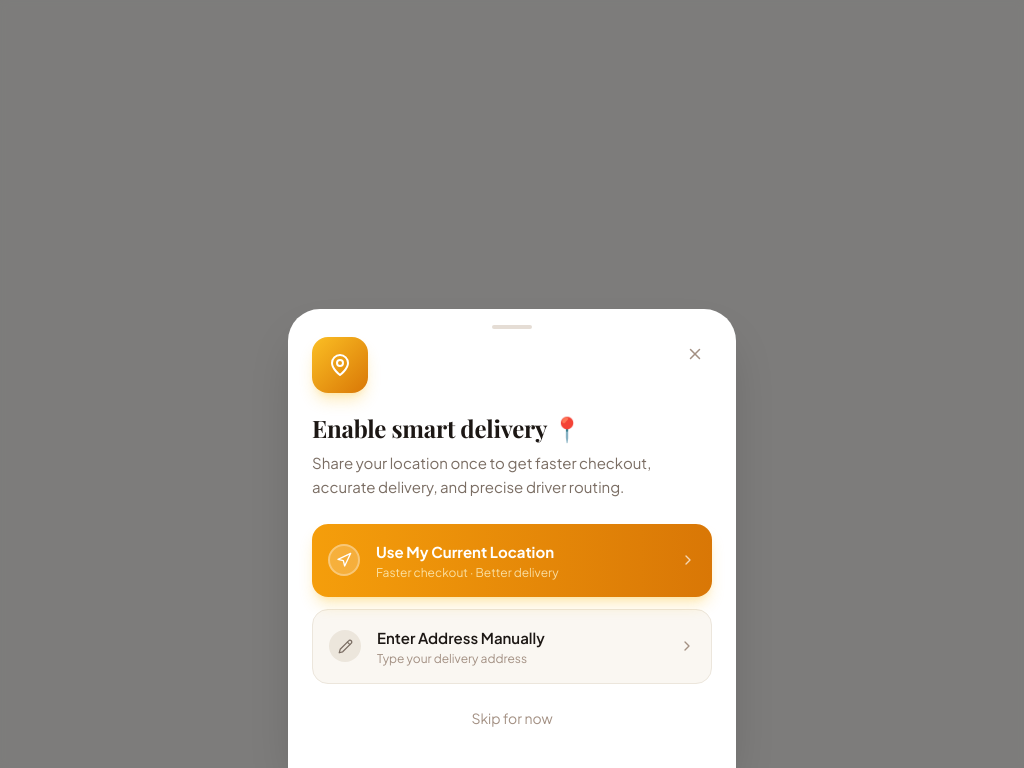
Scenario: [LocationPopup] › should show error if manual form has insufficient fields
Click the text "Enter Address Manually".
click(461, 637)  # box 377,626 -> 545,649
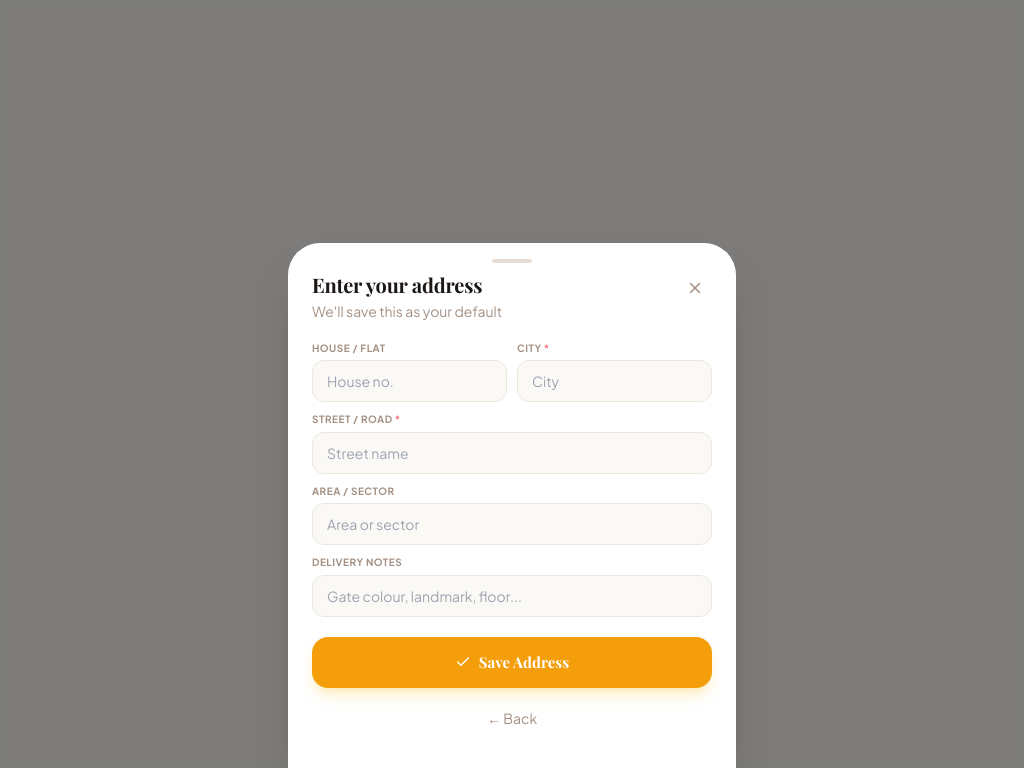
Click the button "Save Address".
click(512, 662)  # box 312,637 -> 712,688
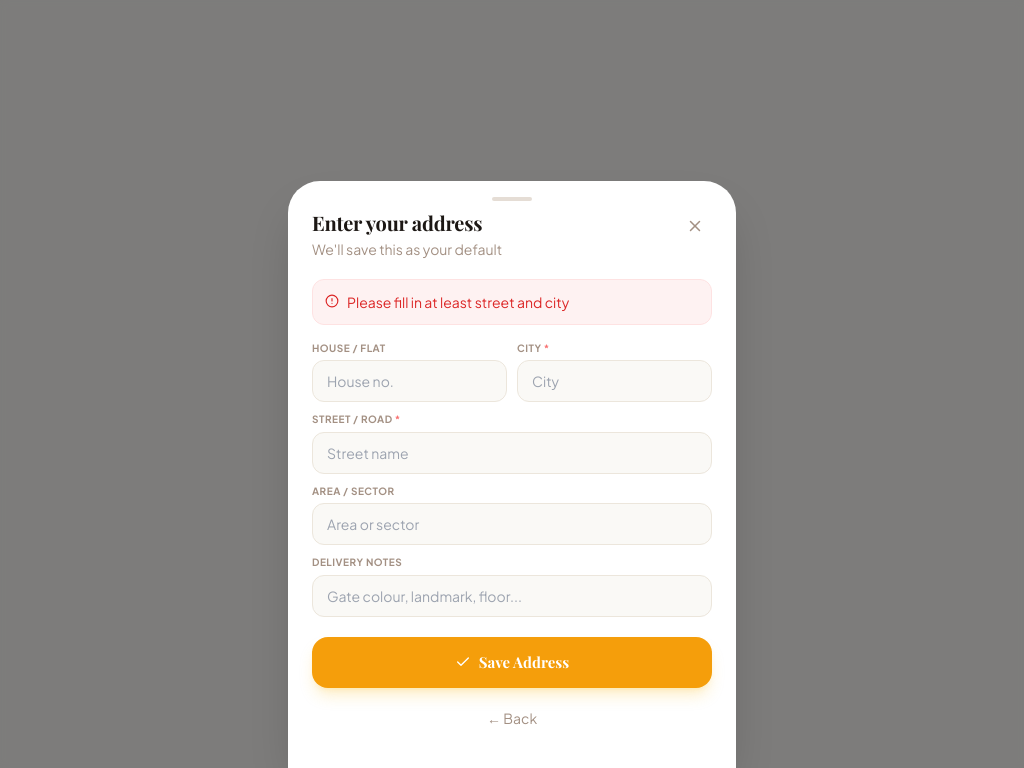
Expected: the text "Please fill in at least street and city" is shown, 312,279 -> 712,325
